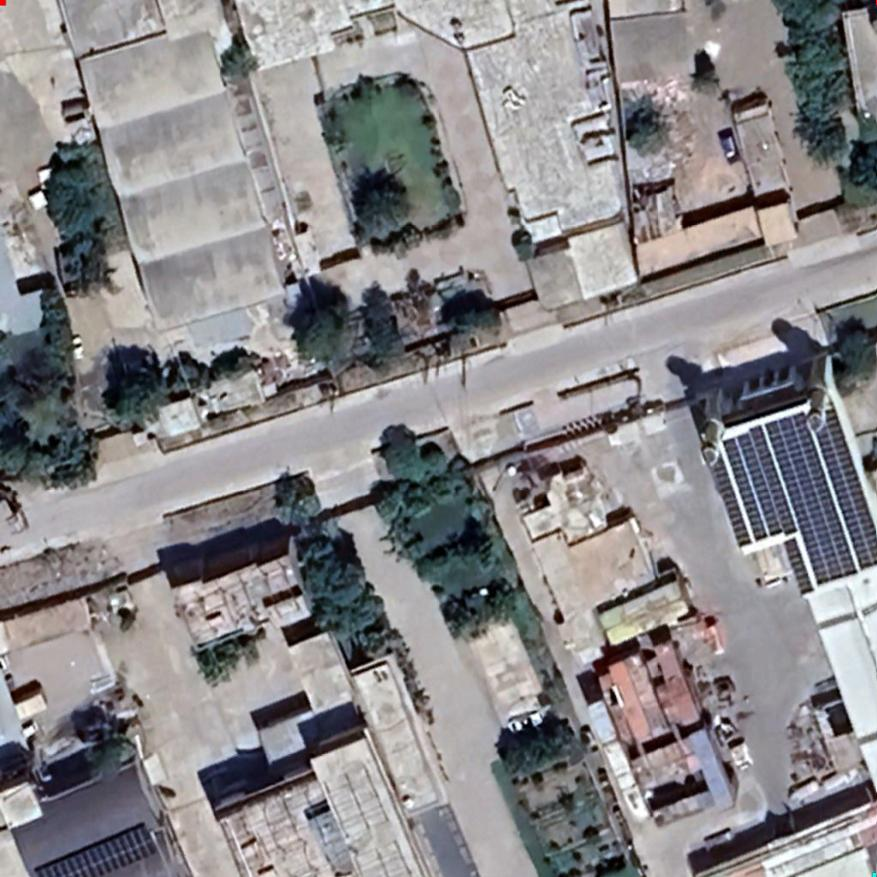Solarpanel: (764, 397, 876, 587), (704, 424, 798, 547), (29, 819, 158, 875), (782, 535, 820, 602)
